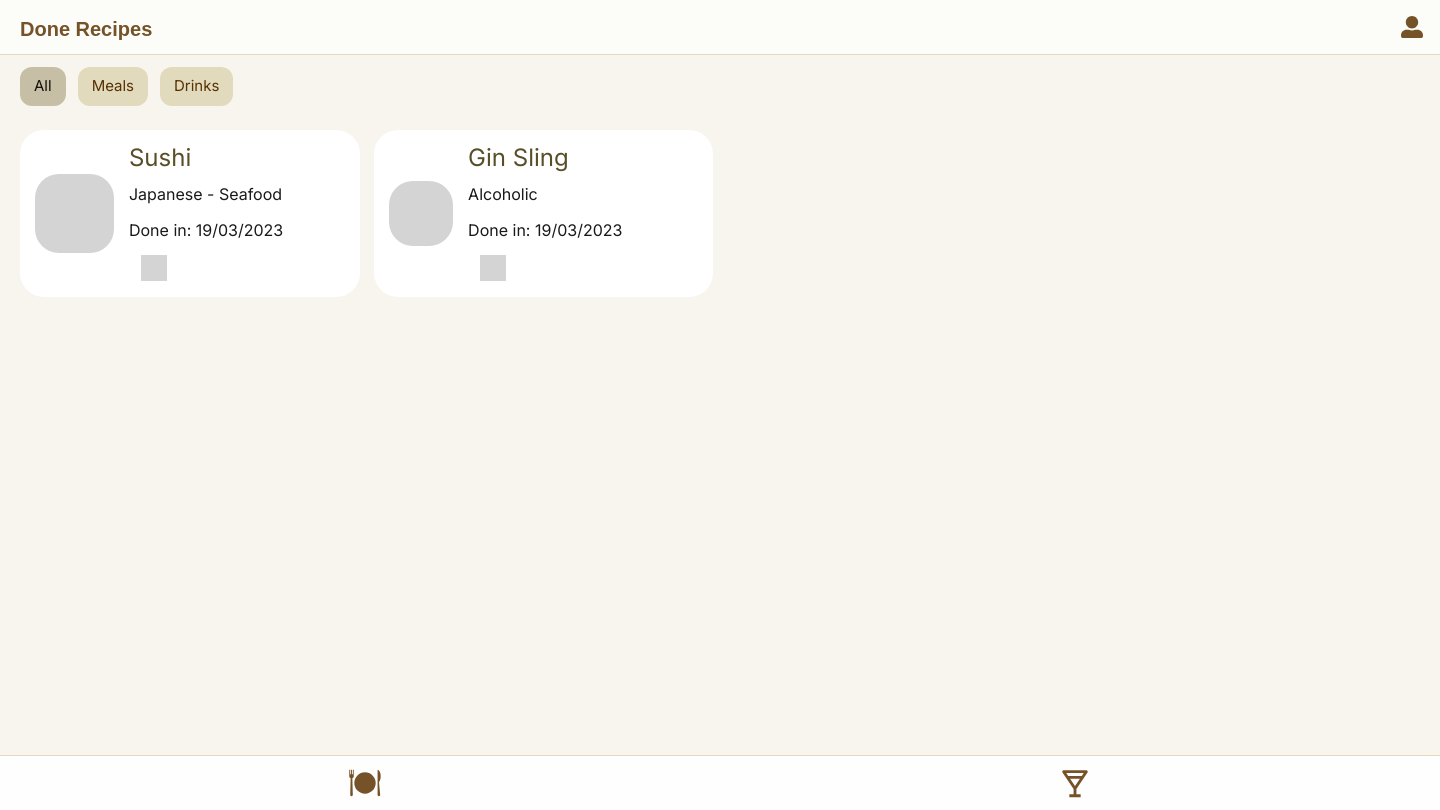
Test case: Testando o componente DoneRecipes › É possível filtrar as receitas concluídas por categoria clicando nos botões de filtro
This screenshot has width=1440, height=810.
Expected: the number of elements with class "done-recipe-card" is 2, x1=20 y1=130 x2=360 y2=297; x1=374 y1=130 x2=713 y2=297
Click the button with test id "filter-by-meal-btn".
click(113, 86)  # box x1=78 y1=67 x2=148 y2=106
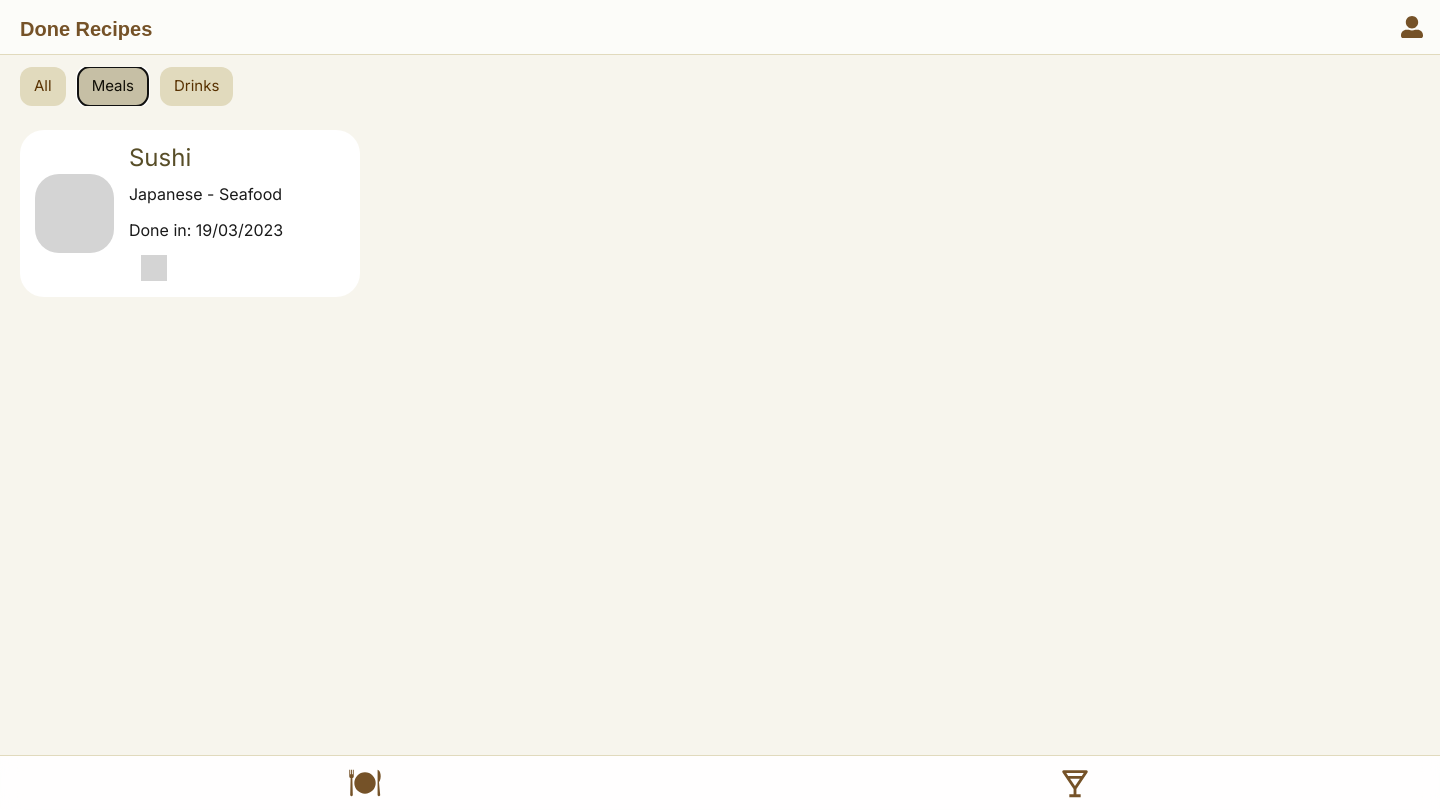
Expected: the number of elements with class "done-recipe-card" is 1, x1=20 y1=130 x2=360 y2=297
Click the button with test id "filter-by-drink-btn".
click(197, 86)  # box x1=160 y1=67 x2=233 y2=106
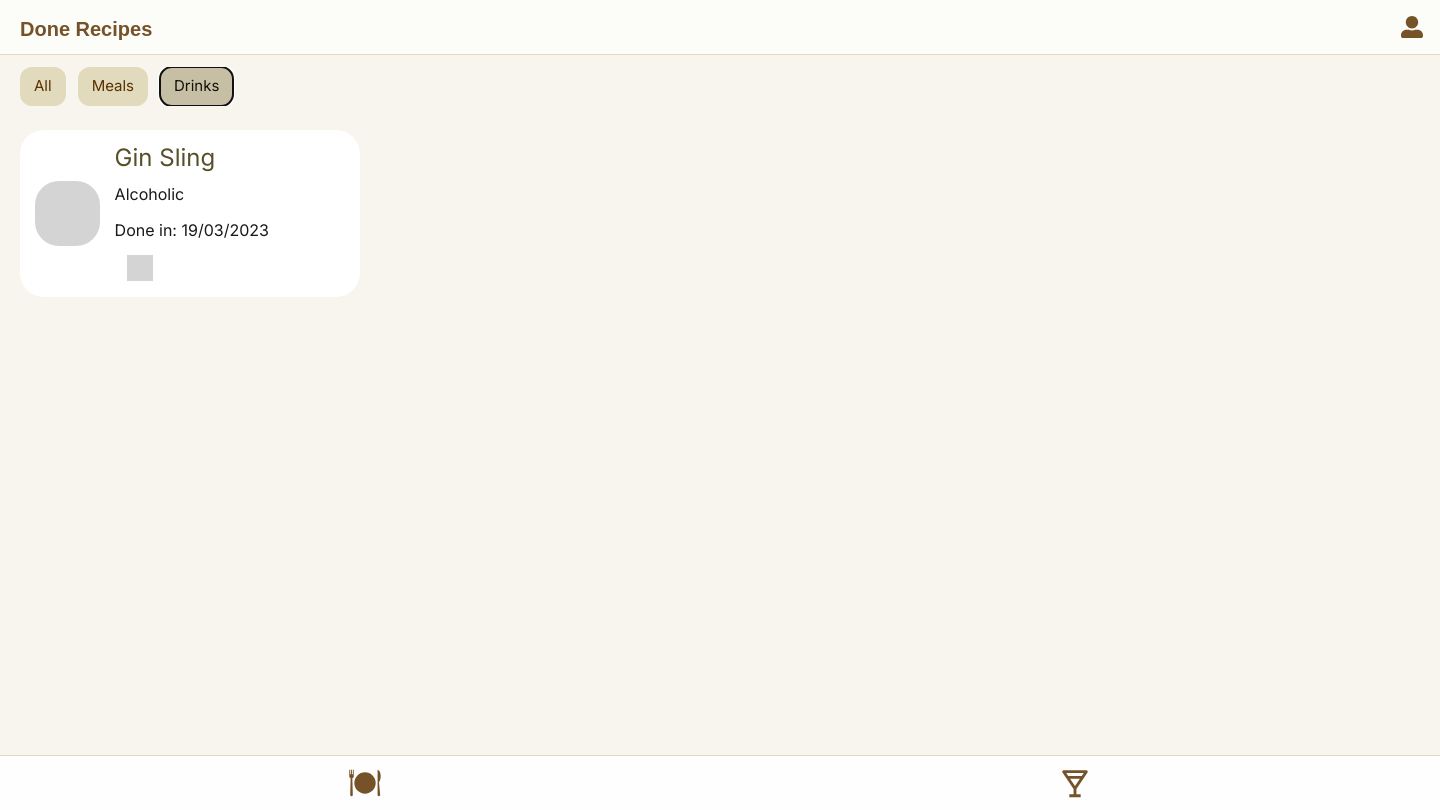
Expected: the number of elements with class "done-recipe-card" is 1, x1=20 y1=130 x2=360 y2=297
Click the button with test id "filter-by-all-btn".
click(43, 86)  # box x1=20 y1=67 x2=66 y2=106
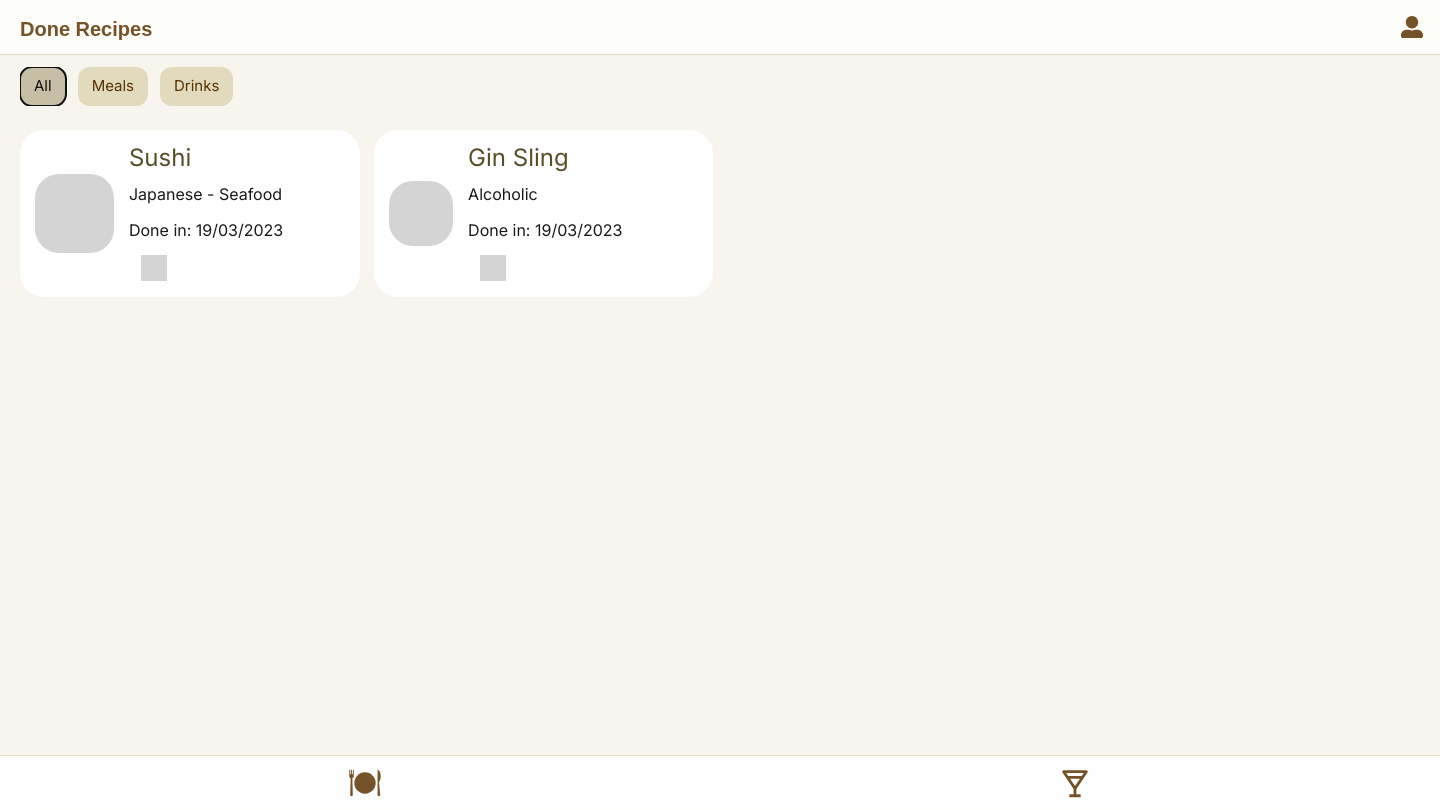
Expected: the number of elements with class "done-recipe-card" is 2, x1=20 y1=130 x2=360 y2=297; x1=374 y1=130 x2=713 y2=297
